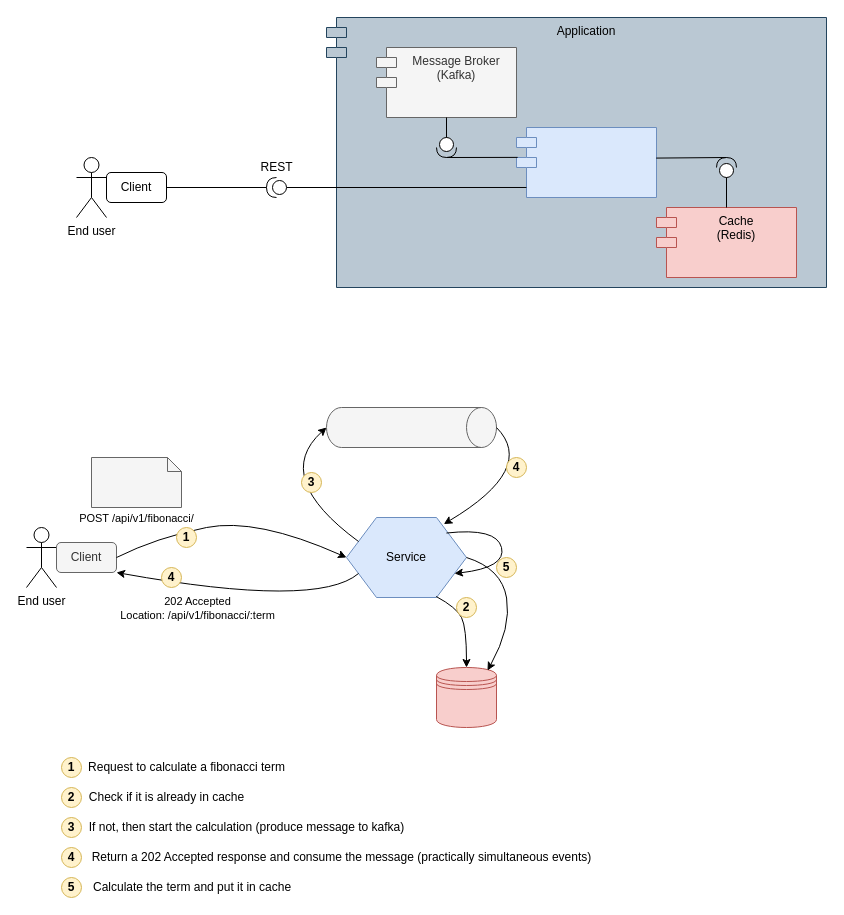
The diagram is 844 pixels wide and 915 high, and some of its shapes have lost their labels. Each missing label, with the centre of its shape:
Kafka: (411,427)
Redis: (466,697)
Service (Java [Quarkus]): (586,162)
{ "term": ":term" }: (136,482)
